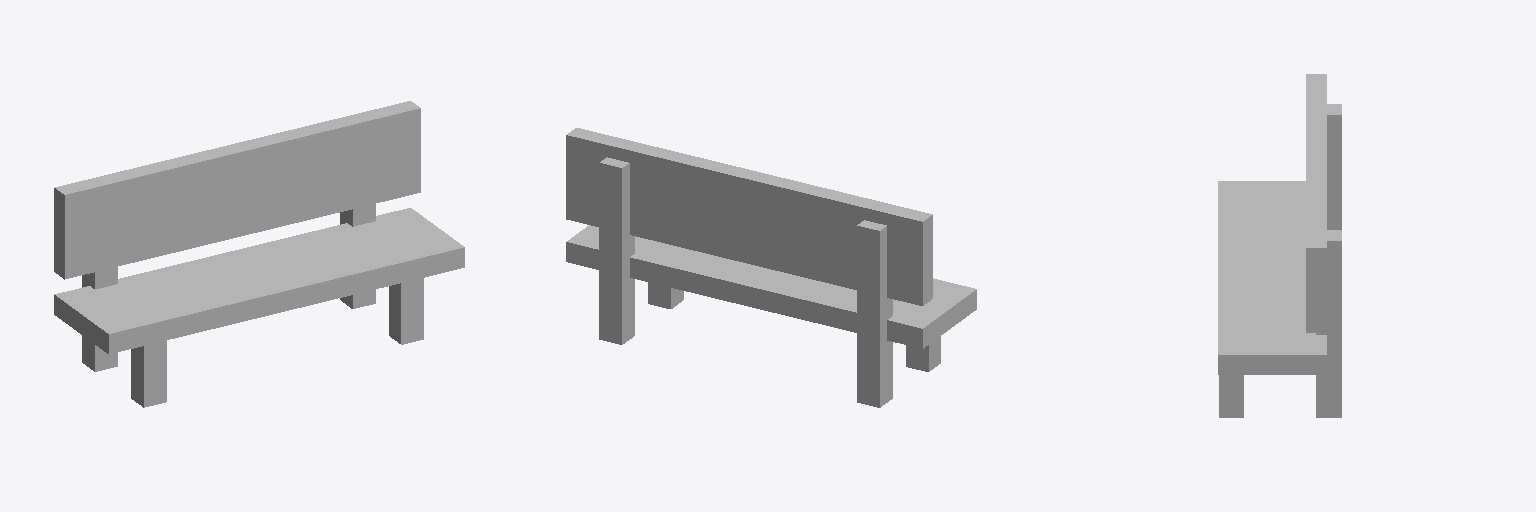
Rendered from SM_Prop_Bench_01.obj.
3 renders of one model, left to right at view 1: azimuth 30°, elevation 25°; view 2: azimuth 150°, elevation 25°; view 3: azimuth 270°, elevation 25°, orthographic.
Parts seen in each view (by area): view 1: SM_Prop_Bench_01:Mesh; view 2: SM_Prop_Bench_01:Mesh; view 3: SM_Prop_Bench_01:Mesh.
Part boxes in pixels (x1,y1,x2,y2): SM_Prop_Bench_01:Mesh: (54,101,464,407); SM_Prop_Bench_01:Mesh: (566,128,976,407); SM_Prop_Bench_01:Mesh: (1218,74,1341,417).
Size of the model in its own units: 3.79 by 1.92 by 1.14.